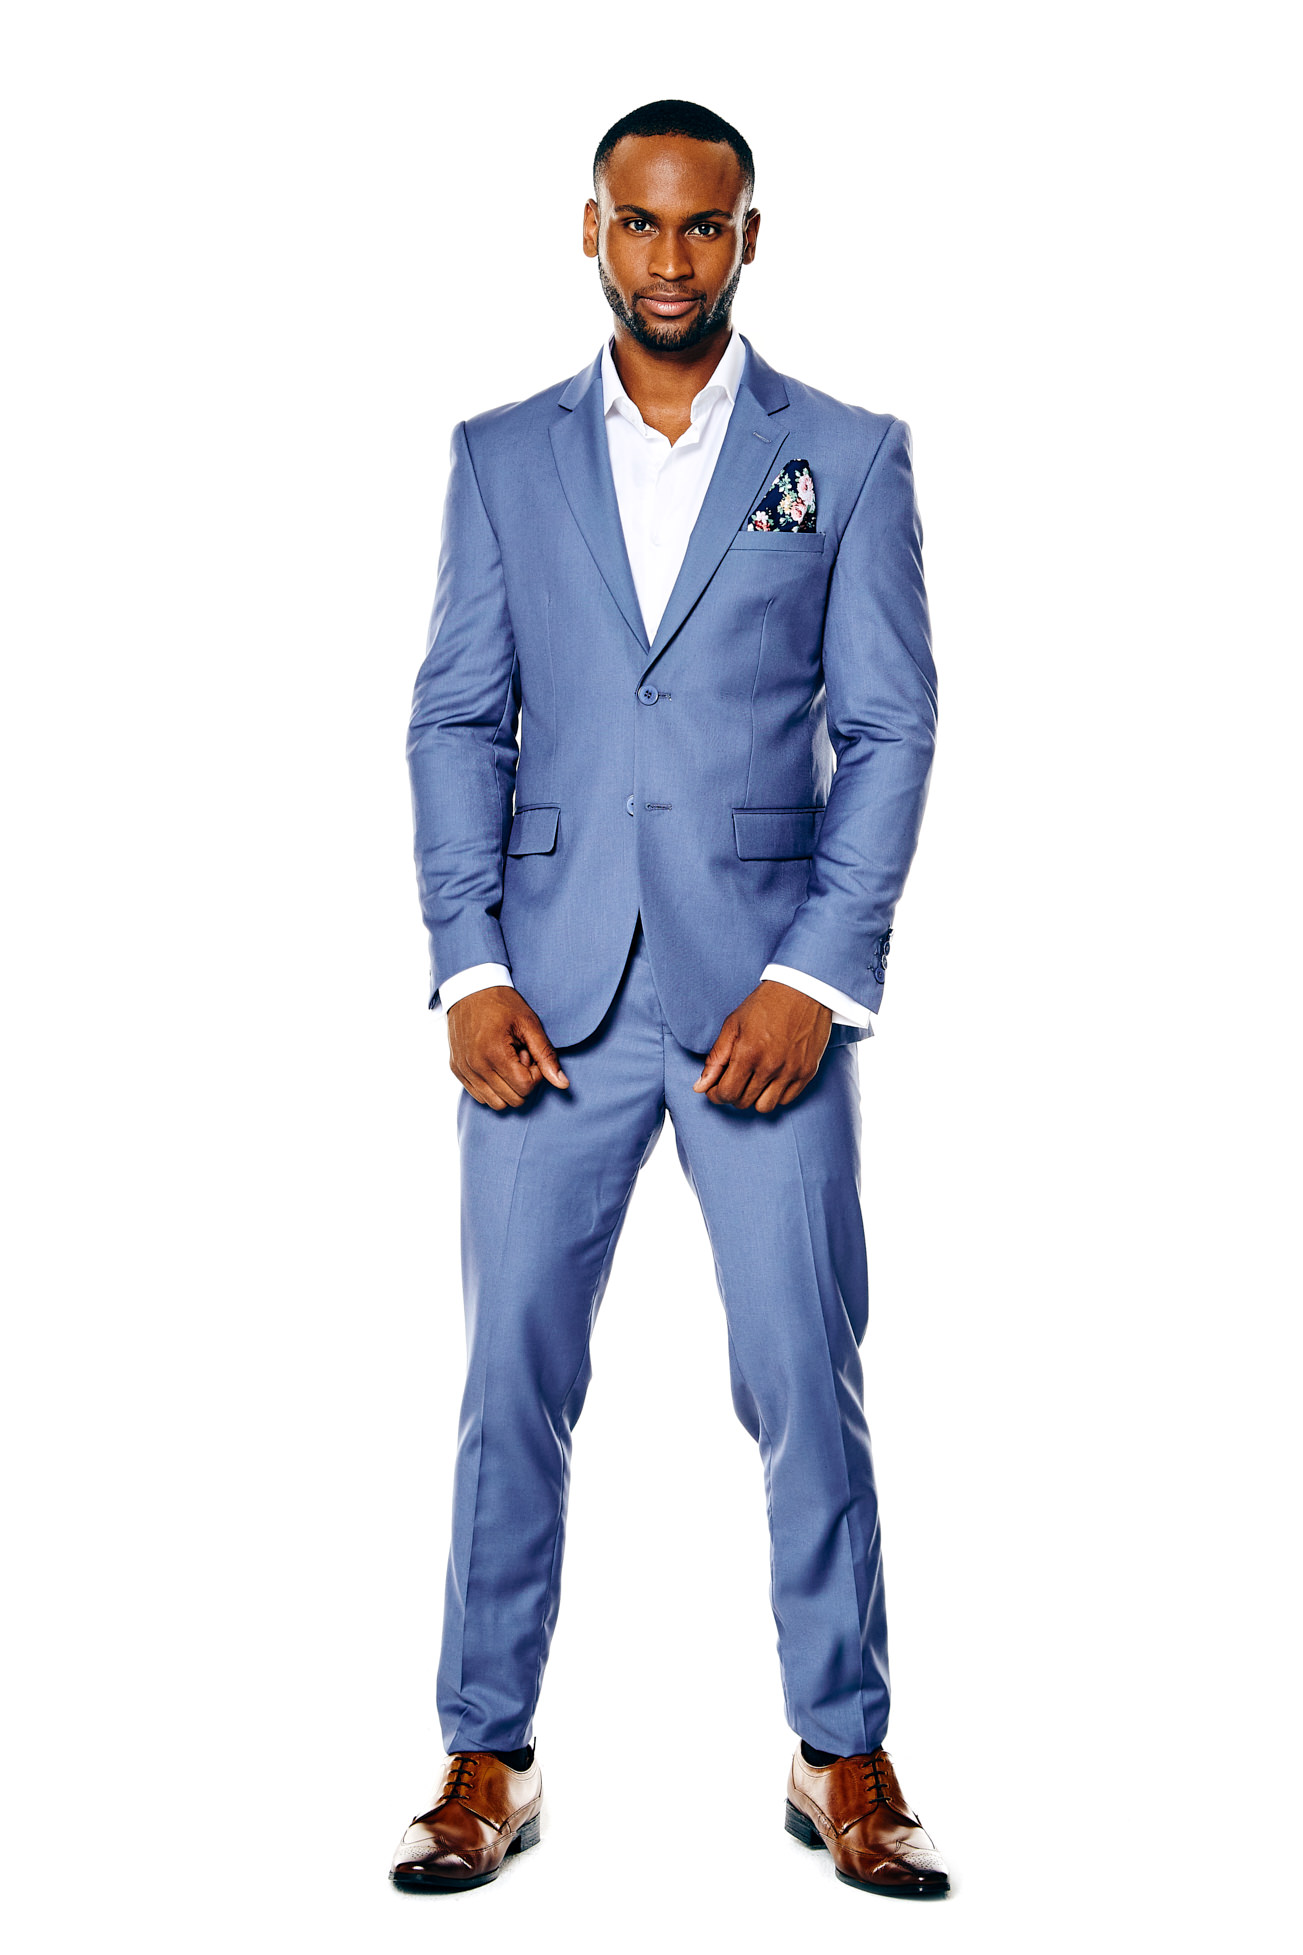feet: (378, 1635, 986, 1914)
